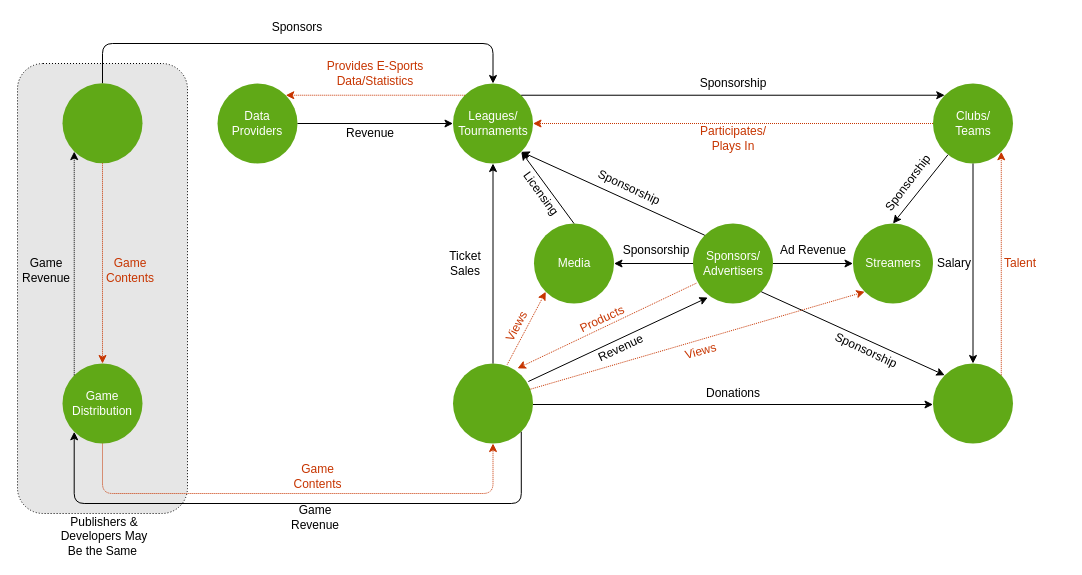
The diagram is 1082 pixels wide and 575 high, and some of its shapes have lost their labels. Each missing label, with the centre of its shape:
"Fans" belongs at point 492,403.
"Game Developers" belongs at point 102,123.
"Professional Players" belongs at point 972,403.
